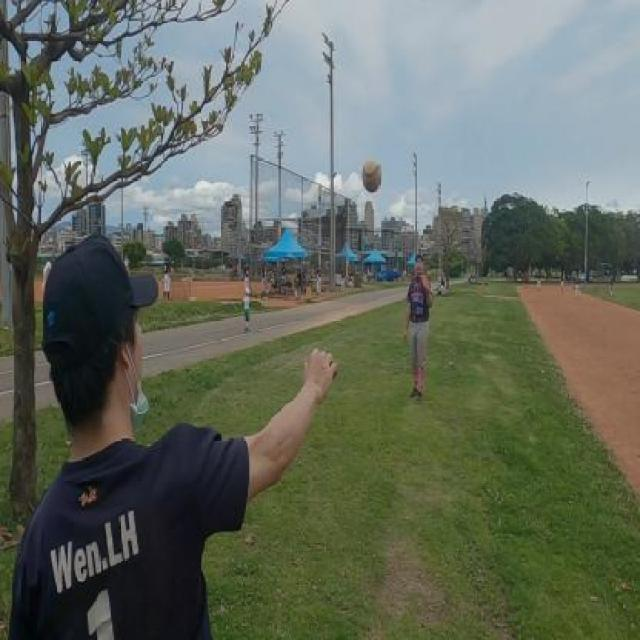baseball: (362, 156, 382, 196)
